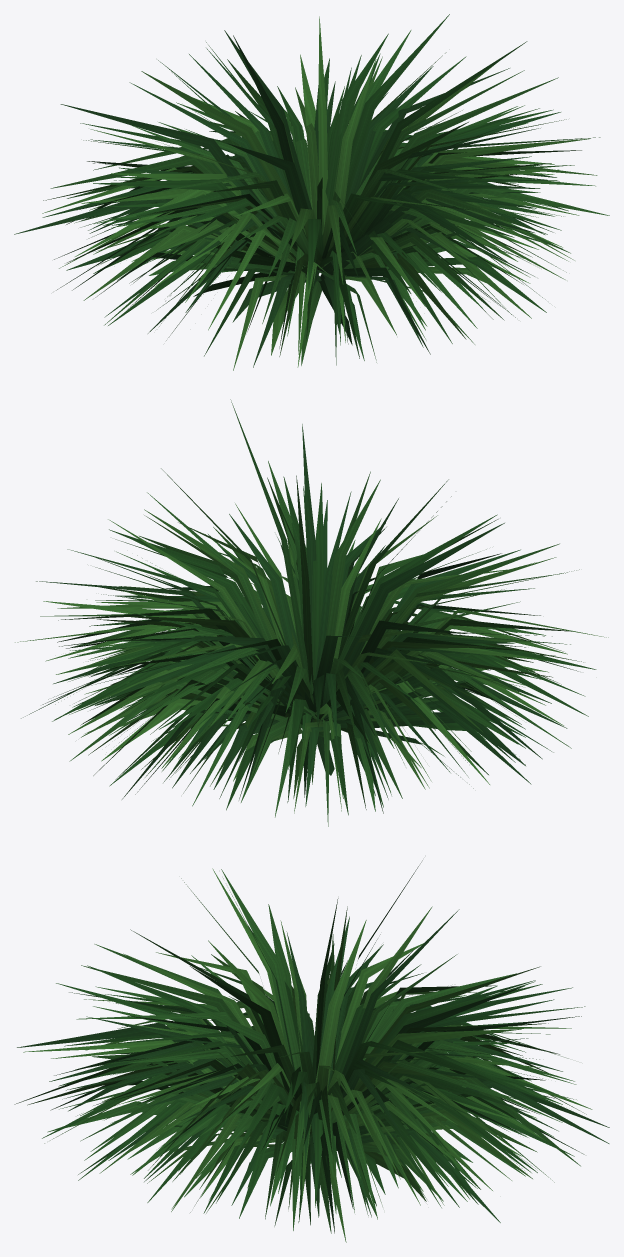
The model's file is shade_grass_v01_LOD1.fbx.
3 renders of one model, top to bottom at view 1: azimuth 30°, elevation 25°; view 2: azimuth 150°, elevation 25°; view 3: azimuth 270°, elevation 25°, orthographic.
Visible parts, largest first — view 1: shade_grass_v01_LOD1; view 2: shade_grass_v01_LOD1; view 3: shade_grass_v01_LOD1.
Part boxes in pixels (x1=…): shade_grass_v01_LOD1: x1=14, y1=14, x2=609, y2=370; shade_grass_v01_LOD1: x1=15, y1=399, x2=608, y2=826; shade_grass_v01_LOD1: x1=14, y1=860, x2=609, y2=1242.
Bounding box in the file's own units: 59.67 × 59.65 × 25.99.
1 material, 1 textured.
